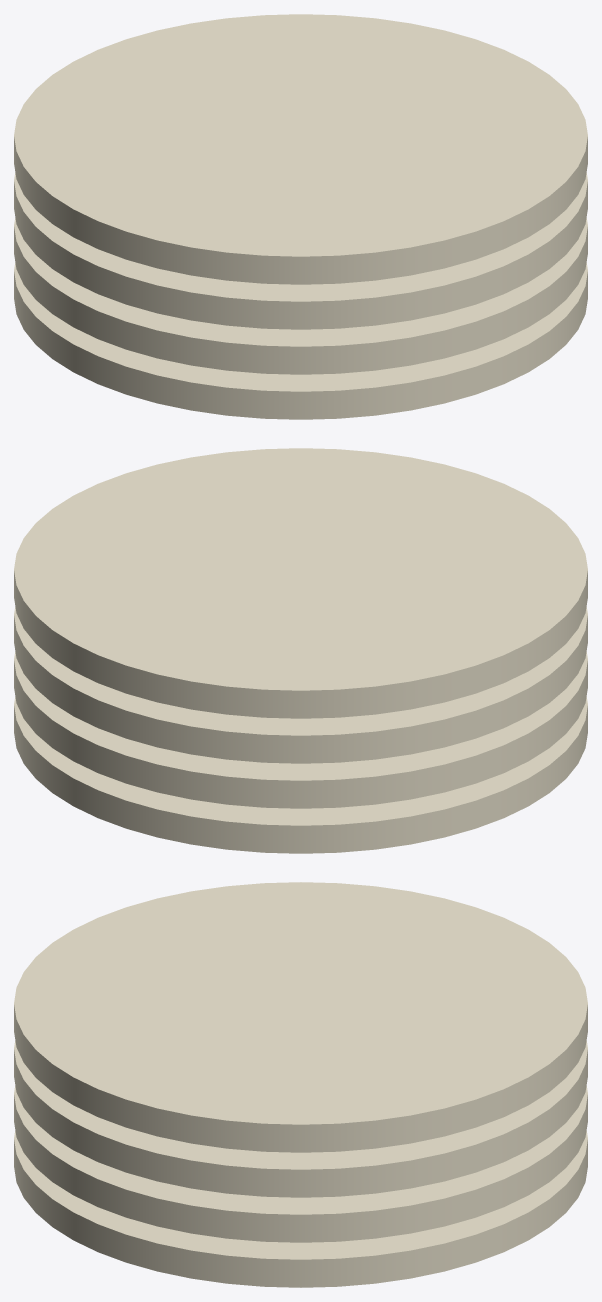
Rendered from ceramics-pottery-studio-kiln-shelf-stack-582e8a1f__29504.glb.
3 views of the same model, one above another, from view 1: azimuth 30°, elevation 25°; view 2: azimuth 150°, elevation 25°; view 3: azimuth 270°, elevation 25° (orthographic).
Parts seen in each view (by area): view 1: kiln-shelf-stack; view 2: kiln-shelf-stack; view 3: kiln-shelf-stack.
Part boxes in pixels (x1=…): kiln-shelf-stack: x1=14, y1=14, x2=587, y2=419; kiln-shelf-stack: x1=14, y1=448, x2=587, y2=853; kiln-shelf-stack: x1=14, y1=882, x2=587, y2=1287.
Bounding box in the file's own units: 0.52 × 0.163 × 0.52.
